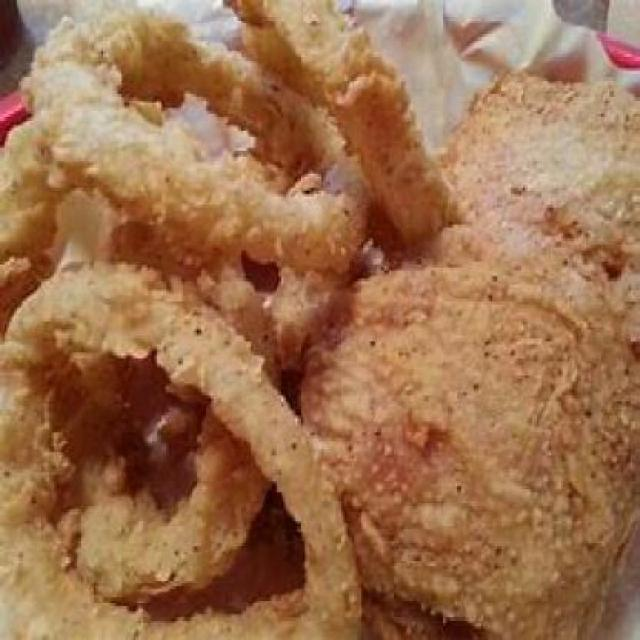chicken wings: (328, 14, 638, 620)
